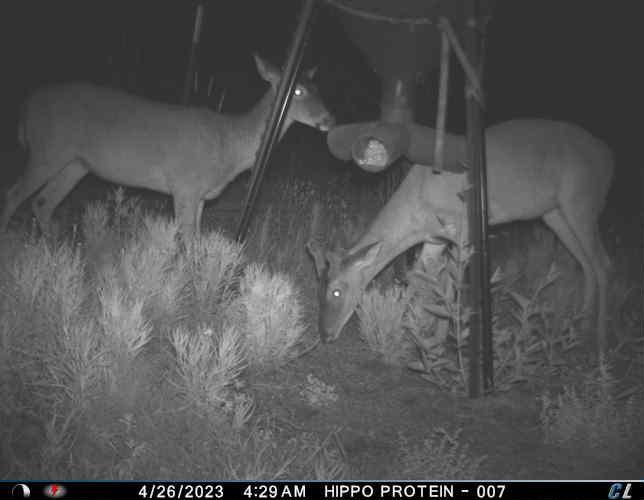Deer: (304, 116, 624, 360), (0, 44, 336, 244)
